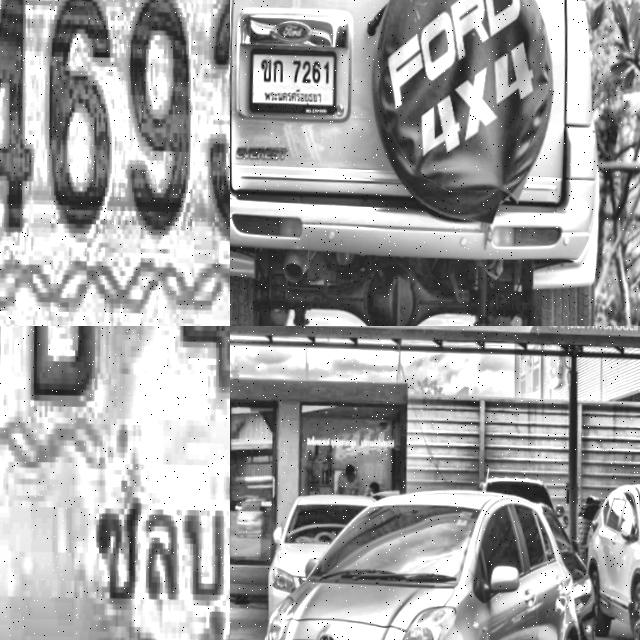license-plate: (0, 0, 230, 326), (0, 326, 230, 640), (247, 48, 337, 118)
